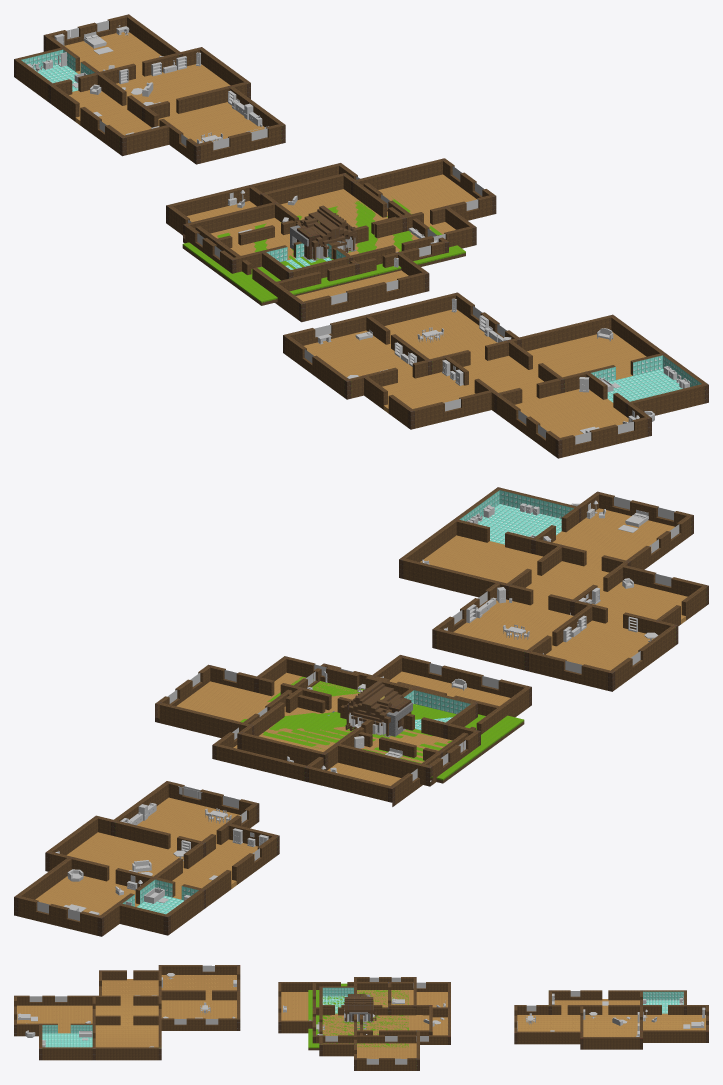
File: House_Whith_Interier_3.fbx
The picture shows the model from 3 angles, top to bottom: view 1: azimuth 30°, elevation 25°; view 2: azimuth 150°, elevation 25°; view 3: azimuth 270°, elevation 25°; orthographic projection. The views are drawn at different scales.
Visible parts, largest first — view 1: House_3, House_1, House_1.001, House_2, Ground, Bonus_House; view 2: House_3, House_1, House_1.001, House_2, Ground, Kuznica, Bonus_House; view 3: House_3, House_1, House_1.001, House_2, Ground, Kuznica, Bonus_House.
Part boxes in pixels (box(x1,y1,x2,y2)): House_3: box(283, 292, 708, 458); House_1: box(14, 14, 285, 164); House_1.001: box(183, 158, 496, 280); House_2: box(166, 163, 448, 322); Ground: box(182, 199, 465, 305); Bonus_House: box(296, 212, 356, 260); House_3: box(399, 487, 708, 691); House_1: box(14, 781, 279, 936); House_1.001: box(155, 656, 480, 786); House_2: box(212, 655, 531, 806); Ground: box(240, 676, 524, 783); Kuznica: box(344, 680, 412, 736); Bonus_House: box(345, 686, 411, 737); House_3: box(14, 965, 240, 1060); House_1: box(514, 990, 708, 1049); House_1.001: box(319, 977, 432, 1070); House_2: box(278, 982, 450, 1044); Ground: box(308, 983, 408, 1050); Kuznica: box(345, 994, 373, 1019); Bonus_House: box(344, 997, 372, 1022).
Size of the model in its own units: 14200 by 1806 by 44239.
